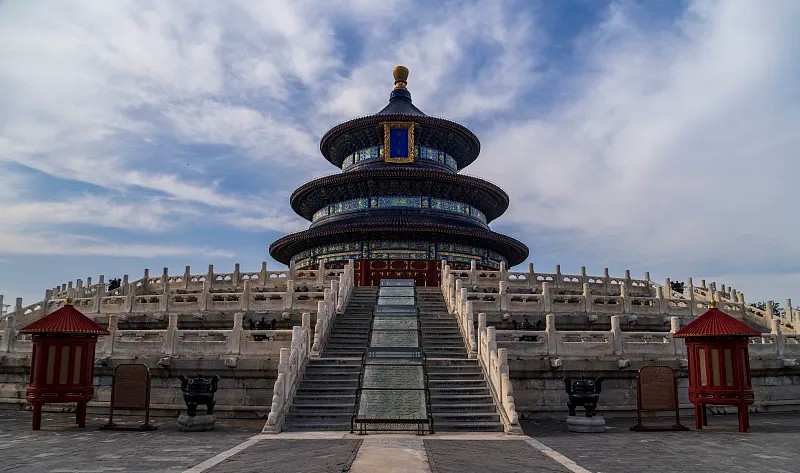Heaven: (267, 66, 530, 287)
